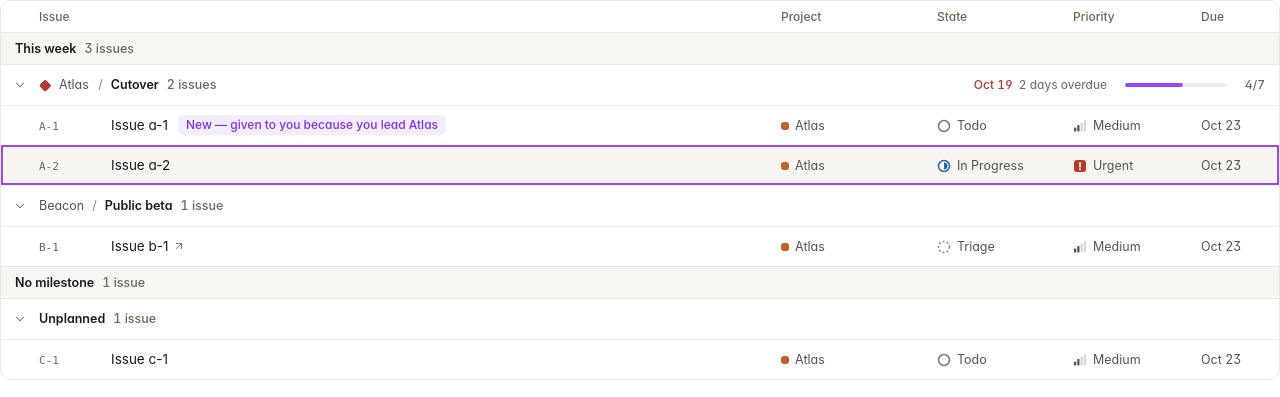
Test case: TaskGroupTable review additions › folding a group while focus sits in its rows hands focus to its toggle
What coordinates should you click on to do the following:
click the button named "Atlas, Cutover"
I would click on:
 (20, 85)
Its box is [9,74,31,96].
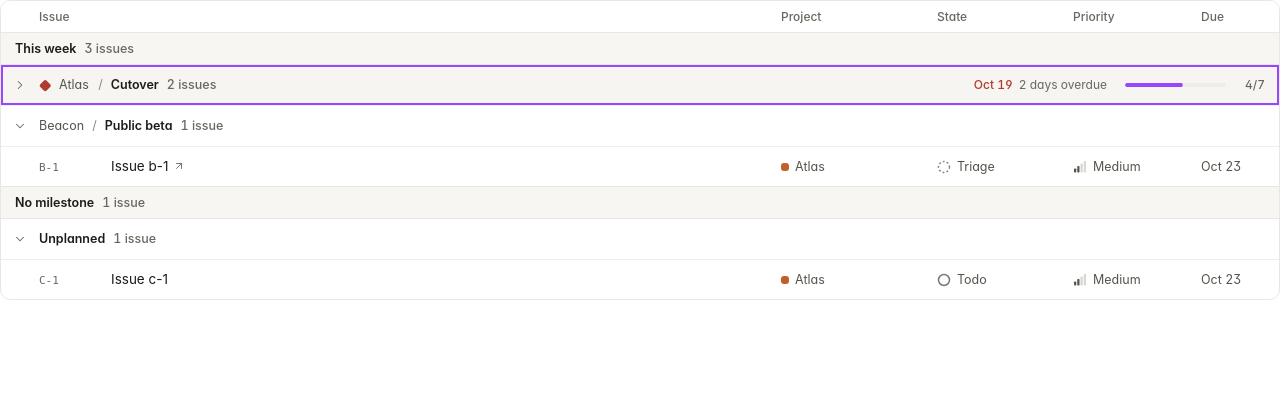
Result: the button named "Atlas, Cutover" is collapsed at [9,74,31,96]
